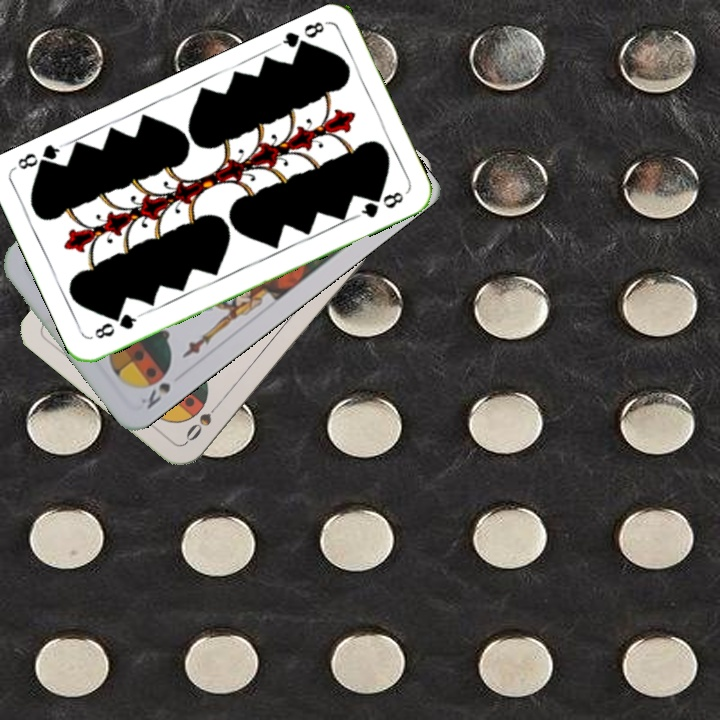G8: (273, 17, 329, 56), (90, 309, 144, 342)
SK: (136, 378, 173, 412)
SO: (181, 396, 225, 445)
